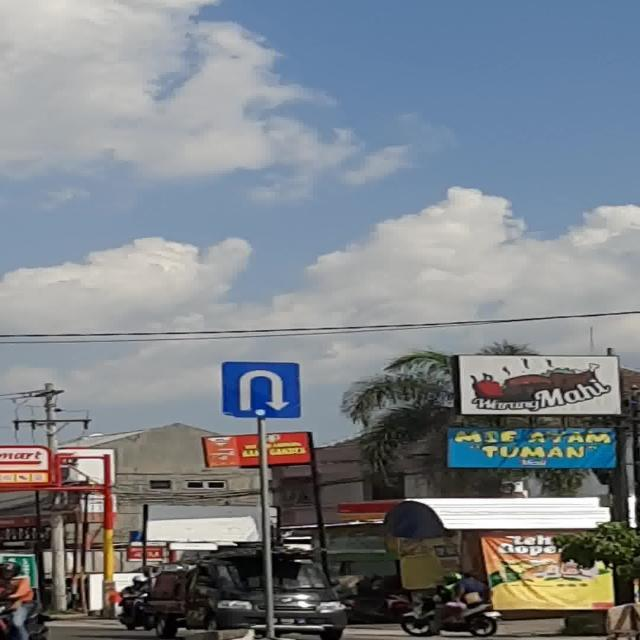Putar Balik: (221, 362, 301, 418)
